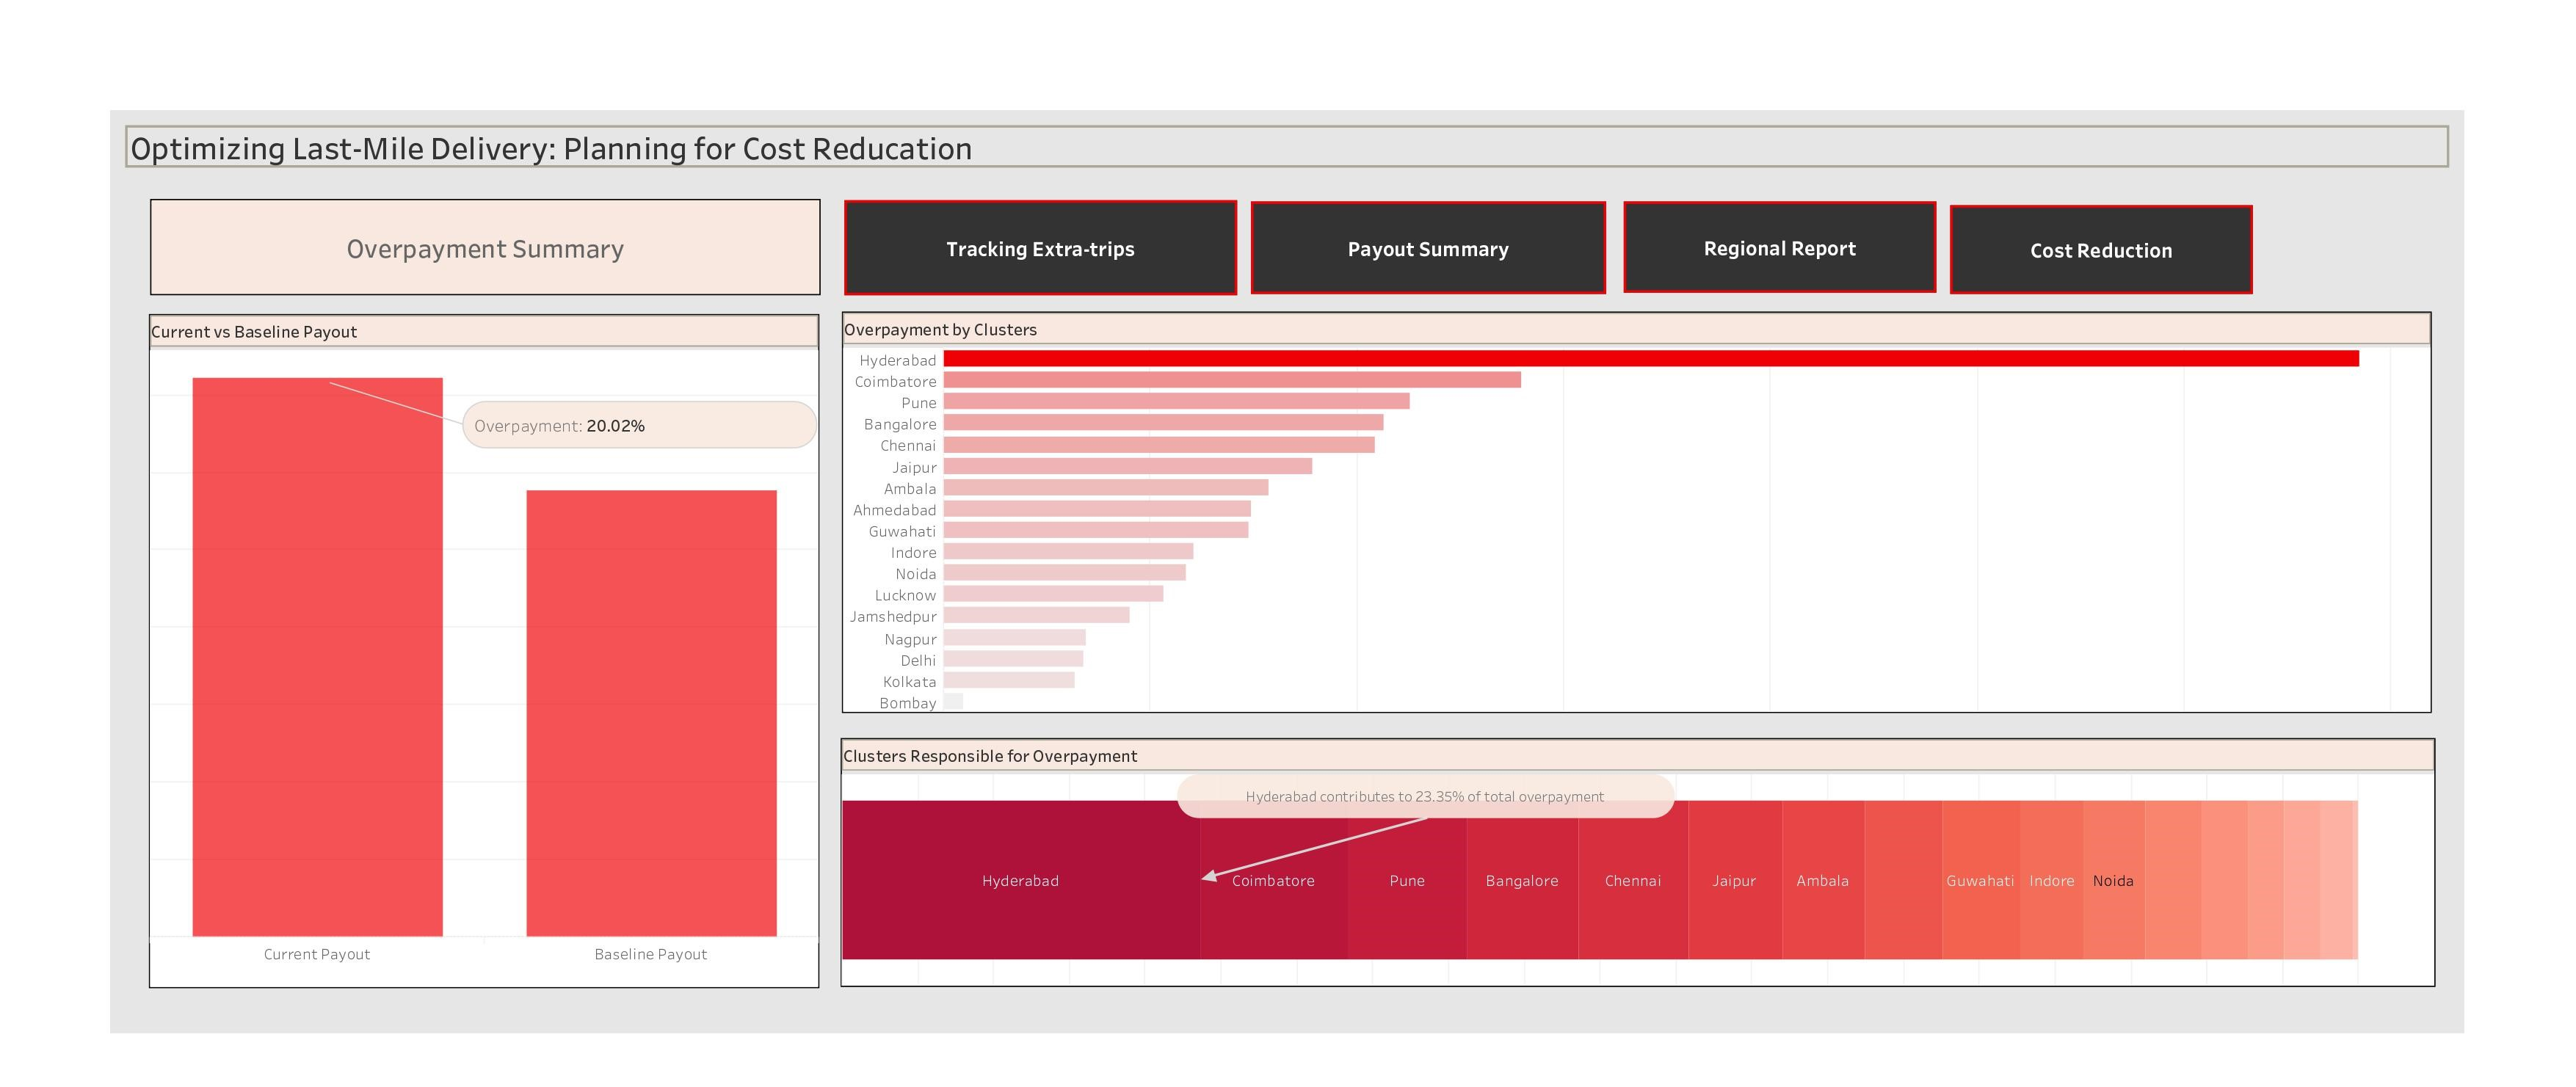

This screenshot's page, from the dashboard's own definition file:
{"tool":"tableau","page":{"name":"D3: Report for Leadership","canvas":[1000,1000],"units":"permille","ordinal":2},"visuals":[{"type":"title","box":[4.7,11.2,990.6,58.9]},{"type":"text","box":[16.8,96.4,284.9,103.6]},{"type":"dashboard-object","box":[311.7,97.6,167.1,102.4]},{"type":"dashboard-object","box":[484.4,98.8,150.9,100]},{"type":"dashboard-object","box":[642.8,98.8,132.8,98.8]},{"type":"dashboard-object","box":[781.8,102.4,128.4,96.4]},{"type":"worksheet","title":"Overpayment by Clusters","mark":"Automatic","rows":["cluster_name"],"cols":["Calculation_1018657942275792912"],"box":[311.1,218.1,675.2,434.9]},{"type":"worksheet","title":"Current vs Baseline Payout","mark":"Automatic","box":[16.2,220.5,284.9,731.3]},{"type":"worksheet","title":"Clusters Responsible for Overpayment","mark":"Automatic","cols":["Calculation_1018657942275792912"],"box":[310.5,680.7,677.1,268.7]}]}

Visuals, with their boxes on the dashboard's canvas, which has no fixed pixel size, in thousandths of its width and height (x1, y1, x2, y2). These are canvas units, not pixel positions in the 2576x1087 screenshot, which may show the page scaled, cropped or inside an application window:
title: 5,11,995,70
text: 17,96,302,200
dashboard-object: 312,98,479,200
dashboard-object: 484,99,635,199
dashboard-object: 643,99,776,198
dashboard-object: 782,102,910,199
"Overpayment by Clusters" worksheet: 311,218,986,653
"Current vs Baseline Payout" worksheet: 16,220,301,952
"Clusters Responsible for Overpayment" worksheet: 310,681,988,949
